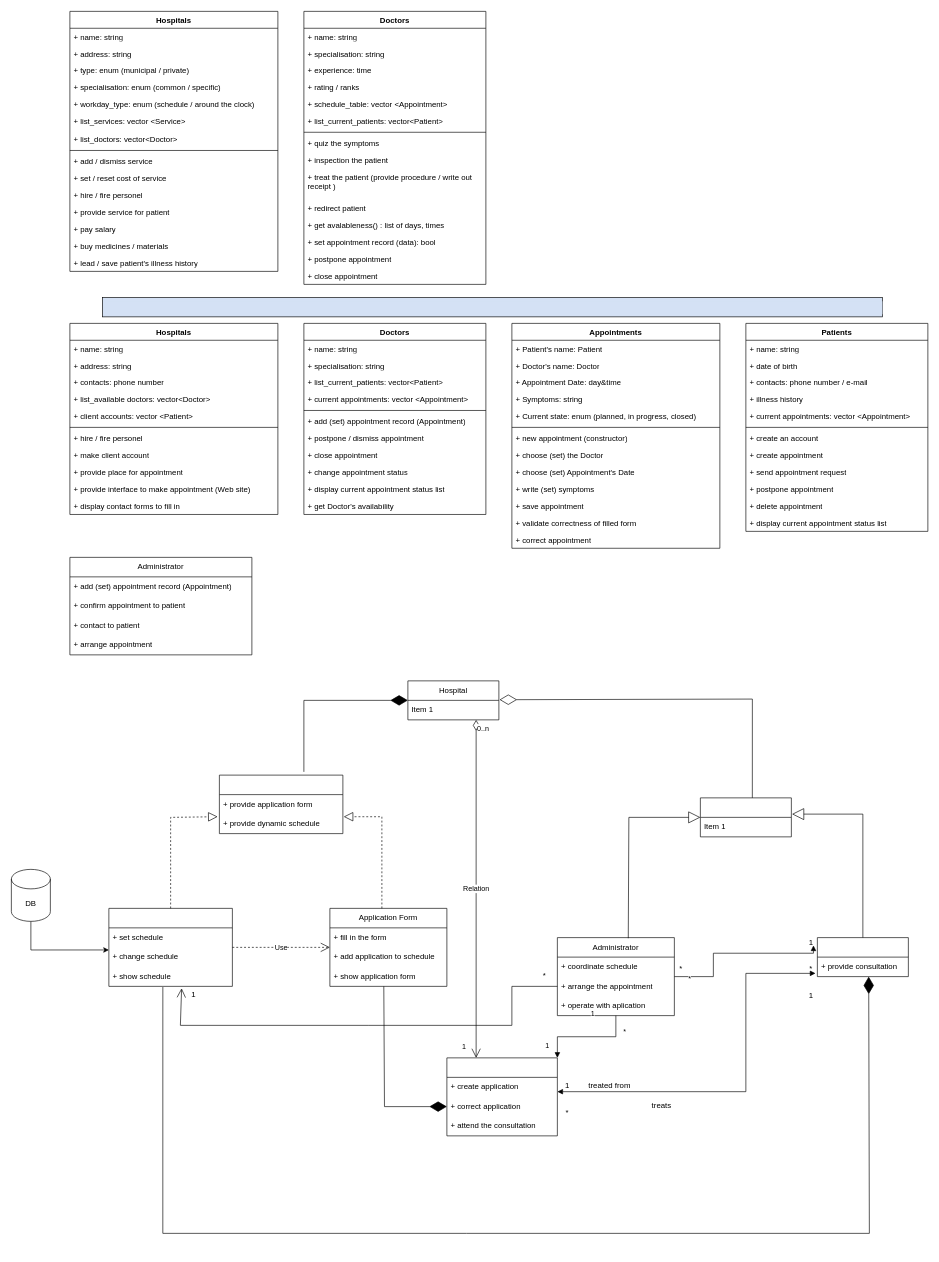
Image size: 939x1262. Some labels were removed from this diagram. Here are the shapes that lost their labels. From the top down, the box of each, then its label:
(109, 301, 882, 314): Working abstructions for making appointment record in hospitals
(219, 774, 343, 834): <<Web (UI)>>
(700, 797, 791, 837): Personnel
(108, 908, 232, 986): Schedule of appointment
(817, 937, 908, 977): Doctor
(446, 1057, 557, 1136): Patient
